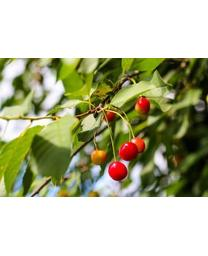cherry: (118, 141, 139, 162), (108, 162, 128, 181), (135, 96, 151, 115), (129, 138, 146, 154), (91, 151, 106, 165)
